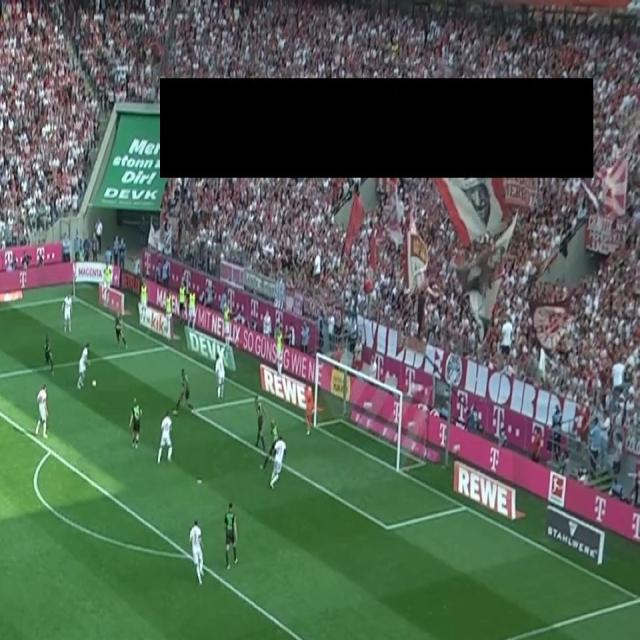ball: (91, 377, 98, 388)
